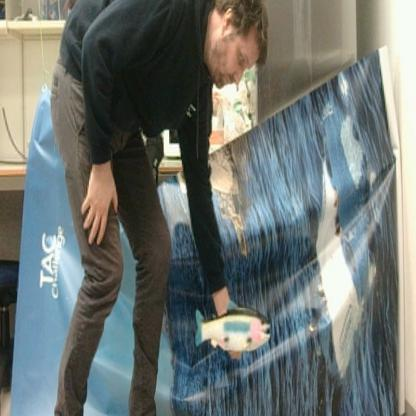rubberfish: (193, 298, 275, 359)
